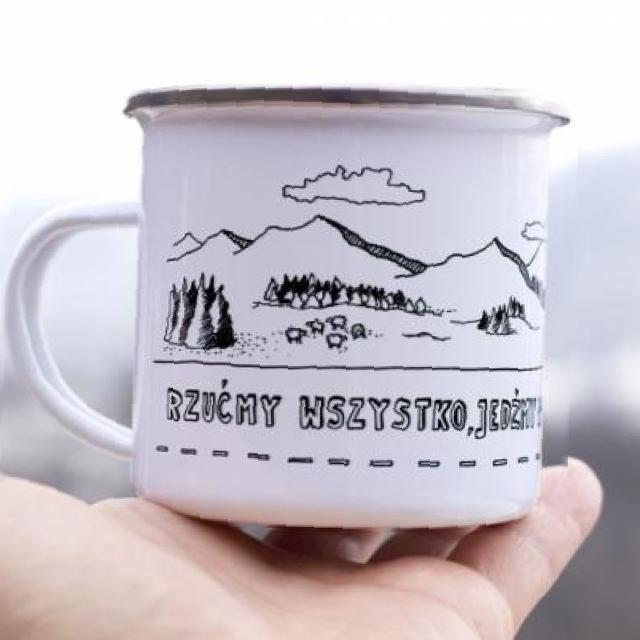cup: (0, 73, 579, 539)
